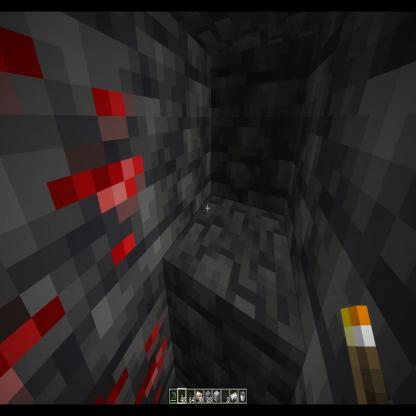redstone ore: (0, 24, 162, 416), (86, 260, 179, 416)
